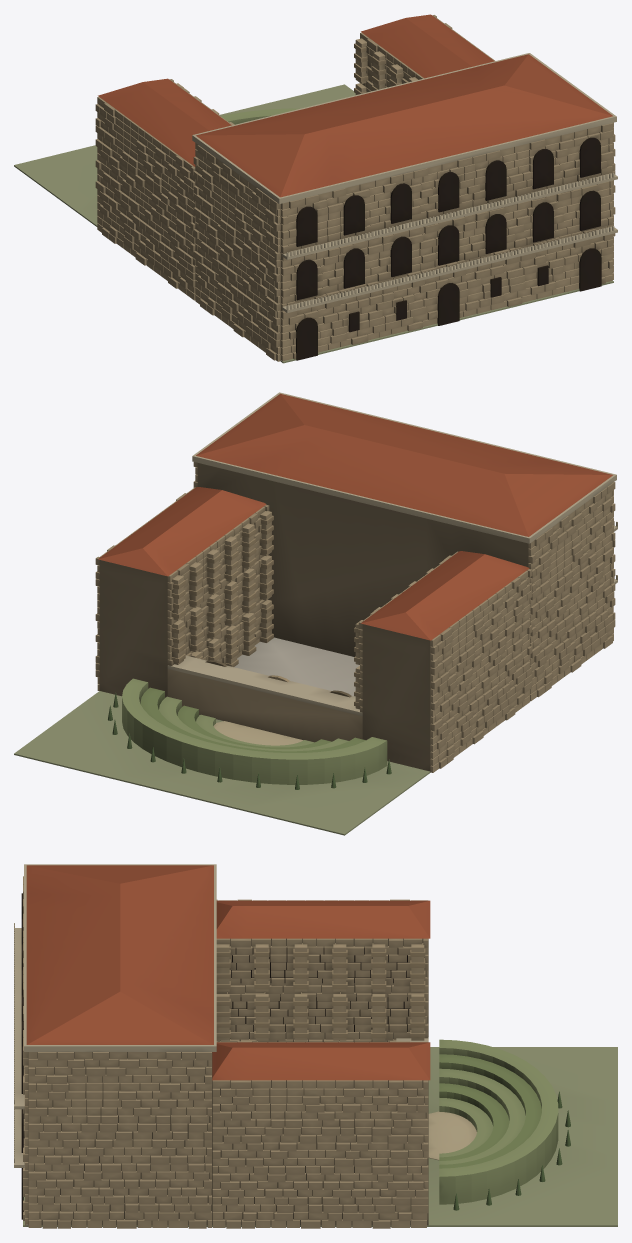
File: palazzo-pitti-1600.glb
3 views of the same model, one above another, from view 1: azimuth 30°, elevation 25°; view 2: azimuth 150°, elevation 25°; view 3: azimuth 270°, elevation 25° (orthographic). The views are drawn at different scales.
Parts seen in each view (by area): view 1: p1_palace, p2_courtyard, p0_ground, p3_Boboli; view 2: p2_courtyard, p1_palace, p0_ground, p3_Boboli; view 3: p1_palace, p2_courtyard, p0_ground, p3_Boboli.
Boxes of the visible parts, x1,y1,x2,y2 form: p1_palace: (192, 53, 617, 361); p2_courtyard: (95, 14, 494, 300); p0_ground: (14, 84, 613, 363); p3_Boboli: (221, 108, 299, 124); p2_courtyard: (95, 487, 532, 772); p1_palace: (192, 392, 617, 701); p0_ground: (14, 691, 430, 835); p3_Boboli: (108, 678, 391, 789); p1_palace: (14, 864, 216, 1228); p2_courtyard: (212, 899, 430, 1228); p0_ground: (23, 1047, 617, 1226); p3_Boboli: (428, 1039, 570, 1210).
Size of the model in its own units: 79.92 by 40.8 by 112.
